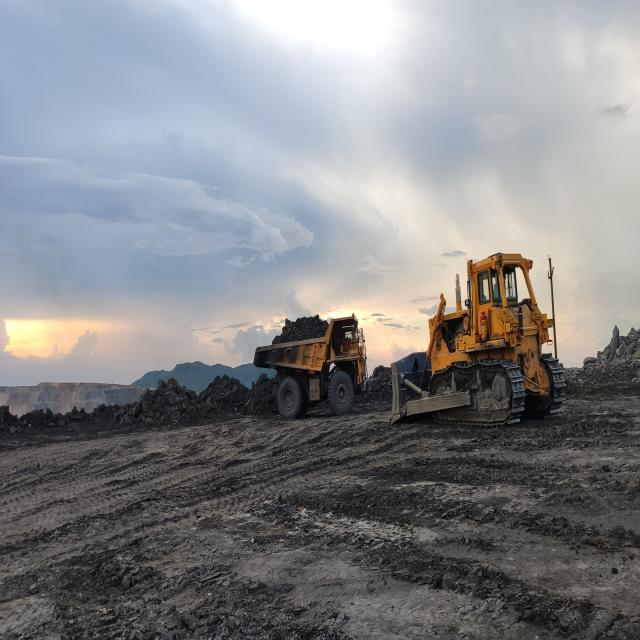buldozerpayloadergrader: (390, 253, 565, 424)
dump_truck: (255, 316, 366, 420)
